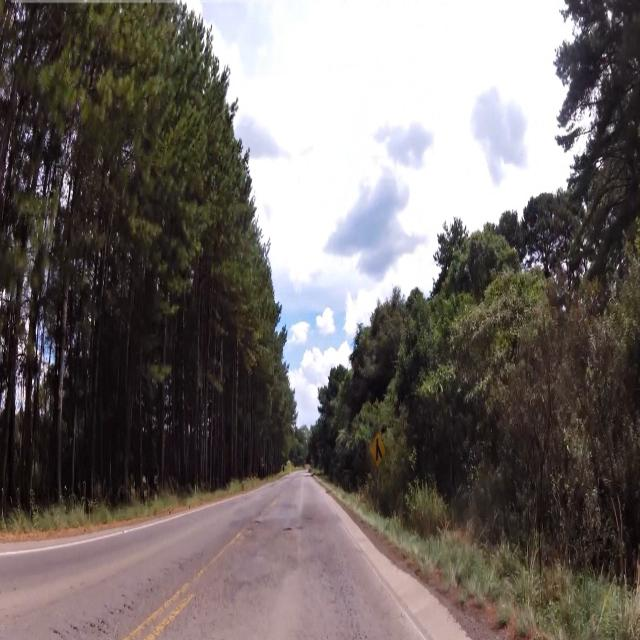A-13b: (370, 432, 388, 466)
